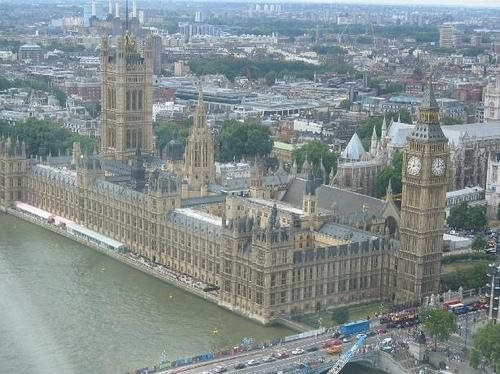bus: (340, 320, 370, 335), (442, 298, 460, 310), (448, 304, 468, 314)
car: (291, 348, 305, 356), (234, 362, 246, 370), (306, 345, 319, 352), (216, 365, 228, 372), (262, 357, 276, 363), (276, 352, 289, 358), (248, 360, 260, 366), (343, 336, 353, 343), (377, 328, 388, 334), (332, 338, 342, 344), (320, 342, 330, 348), (194, 371, 214, 374), (356, 334, 367, 338)
